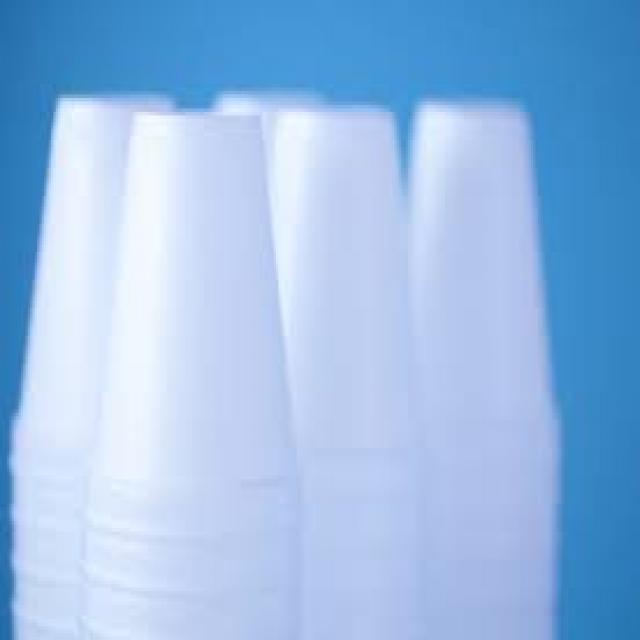trash: (88, 109, 290, 637), (408, 102, 556, 638), (94, 109, 278, 536), (270, 101, 410, 633), (6, 95, 174, 479), (410, 102, 552, 466), (270, 106, 410, 458)
